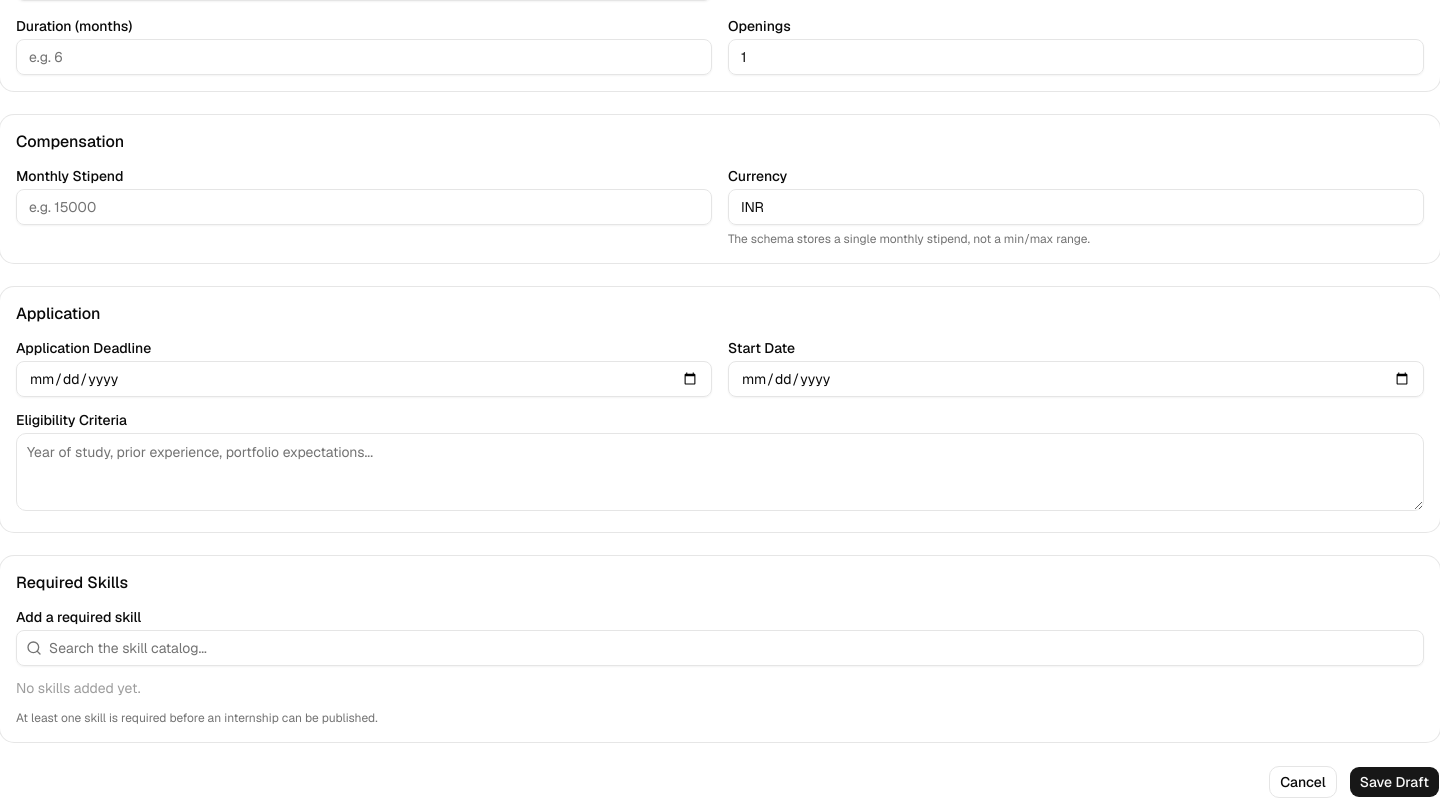
Test: InternshipForm › blocks submit and shows errors when title/description are empty
(page scrolled)
Click the button "Save Draft": (1394, 782) [1349, 766, 1440, 797]
(page scrolled)
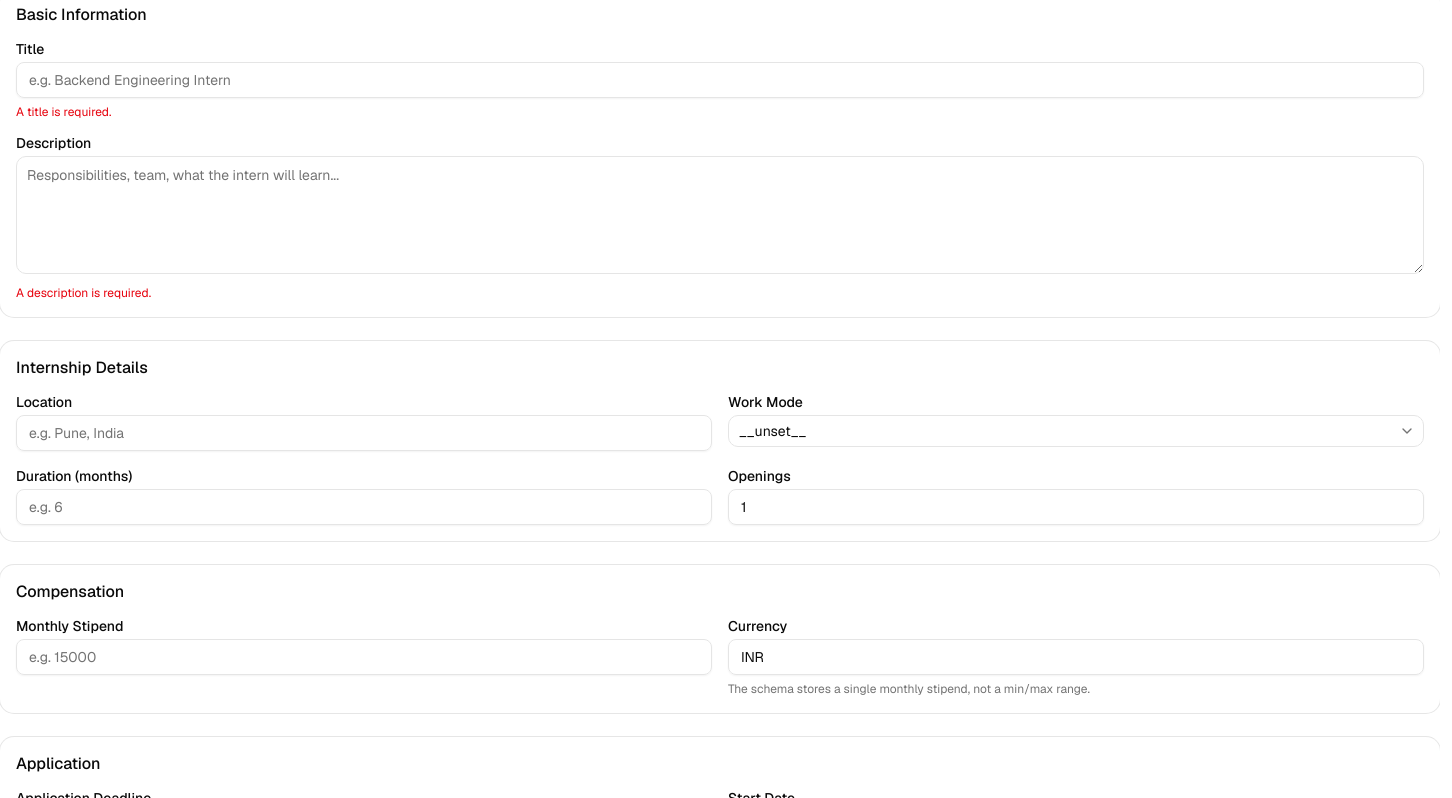
Expected: the text "A title is required." is shown, [16, 104, 111, 120]
Expected: the text "A description is required." is shown, [16, 285, 151, 301]
